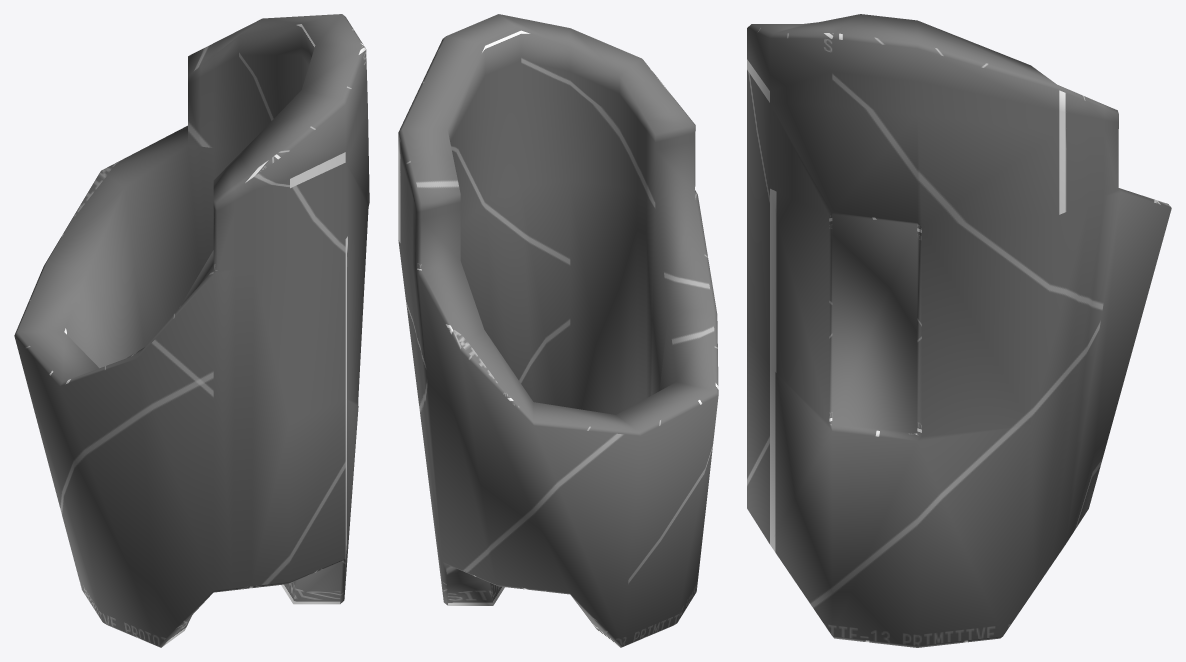
File: Thigh-Soldier.obj
3 views of the same model, side by side, from view 1: azimuth 30°, elevation 25°; view 2: azimuth 150°, elevation 25°; view 3: azimuth 270°, elevation 25° (orthographic). The views are drawn at different scales.
Visible parts, largest first — view 1: Thigh-Soldier; view 2: Thigh-Soldier; view 3: Thigh-Soldier.
Part boxes in pixels (bbox=[...]): Thigh-Soldier: bbox=[14, 14, 369, 647]; Thigh-Soldier: bbox=[398, 14, 718, 647]; Thigh-Soldier: bbox=[747, 14, 1171, 647].
Bounding box in the file's own units: 1.64 × 3 × 1.87.
